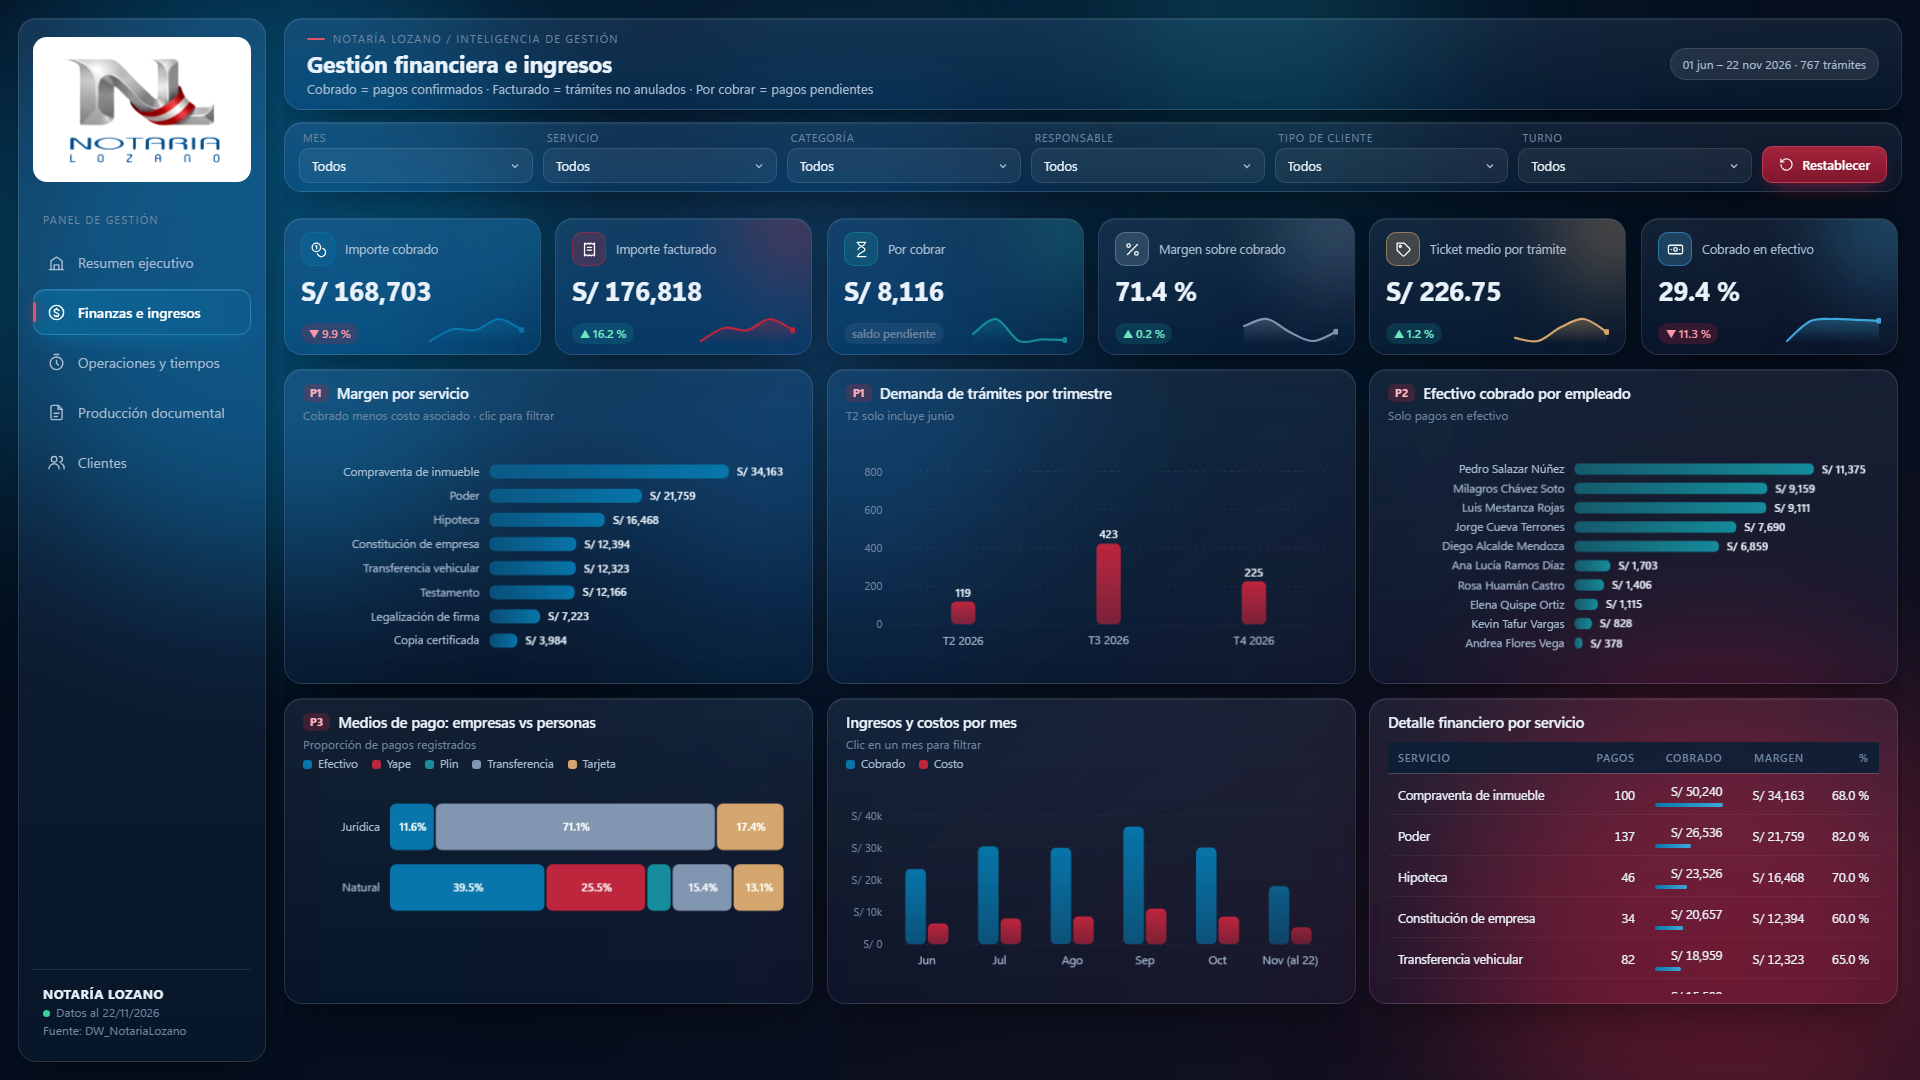

This screenshot's page, from the dashboard's own definition file:
{"tool":"powerbi","page":{"name":"Gestión financiera e ingresos","canvas":[1920,1280],"ordinal":0},"visuals":[{"type":"textbox","box":[302,67,1400,52],"z":0},{"type":"textbox","box":[304,123,1450,40],"z":1},{"type":"slicer","fields":{"Values":["DIM_TIEMPO.Anio"]},"box":[296,216,250.3,61],"z":3},{"type":"slicer","fields":{"Values":["DIM_TIEMPO.Nombre_Mes"]},"box":[560.3,216,250.3,61],"z":4},{"type":"slicer","fields":{"Values":["DIM_SERVICIO.Nombre_Tramite"]},"box":[824.7,216,250.3,61],"z":5},{"type":"slicer","fields":{"Values":["DIM_PERSONAL.Nombre_Completo"]},"box":[1089,216,250.3,61],"z":6},{"type":"slicer","fields":{"Values":["DIM_METODO_PAGO.Tipo_Pago"]},"box":[1353.3,216,250.3,61],"z":7},{"type":"slicer","fields":{"Values":["DIM_ESTADO_PAGO.Estado"]},"box":[1617.7,216,250.3,61],"z":8},{"type":"card","fields":{"Values":["FACT_TRAMITES_FINANCIEROS.Importe cobrado"]},"box":[280,310,308,122],"z":9},{"type":"card","fields":{"Values":["FACT_TRAMITES_FINANCIEROS.Registros financieros"]},"box":[604,310,308,122],"z":10},{"type":"card","fields":{"Values":["FACT_TRAMITES_FINANCIEROS.Importe medio por registro"]},"box":[928,310,308,122],"z":11},{"type":"card","fields":{"Values":["FACT_TRAMITE_GENERAL.Pagos registrados"]},"box":[1252,310,308,122],"z":12},{"type":"card","fields":{"Values":["FACT_TRAMITES_FINANCIEROS.Variacion mensual cobros"]},"box":[1576,310,308,122],"z":13},{"type":"textbox","box":[295.5,1231,1580.2,19],"z":14},{"type":"lineChart","title":"Evolución mensual del importe cobrado","fields":{"Category":["DIM_TIEMPO.Nombre_Mes"],"Y":["FACT_TRAMITES_FINANCIEROS.Importe cobrado"]},"box":[306,494,492,214],"z":15},{"type":"clusteredBarChart","title":"Importe cobrado por servicio","fields":{"Category":["DIM_SERVICIO.Nombre_Tramite"],"Y":["FACT_TRAMITES_FINANCIEROS.Importe cobrado"]},"box":[846,494,492,214],"z":16},{"type":"donutChart","title":"Importe por método de pago","fields":{"Category":["DIM_METODO_PAGO.Tipo_Pago"],"Y":["FACT_TRAMITES_FINANCIEROS.Importe cobrado"]},"box":[1386,494,492,214],"z":17},{"type":"clusteredBarChart","title":"Importe por responsable","fields":{"Category":["DIM_PERSONAL.Nombre_Completo"],"Y":["FACT_TRAMITES_FINANCIEROS.Importe cobrado"]},"box":[306,744,492,214],"z":18},{"type":"clusteredColumnChart","title":"Registros financieros por mes","fields":{"Category":["DIM_TIEMPO.Nombre_Mes"],"Y":["FACT_TRAMITES_FINANCIEROS.Registros financieros"]},"box":[846,744,492,214],"z":19},{"type":"clusteredBarChart","title":"Trámites por estado de pago · hecho general","fields":{"Category":["DIM_ESTADO_PAGO.Estado"],"Y":["FACT_TRAMITE_GENERAL.Tramites registrados"]},"box":[1386,744,492,214],"z":20},{"type":"tableEx","title":"Resumen financiero por fecha, servicio y método (agrupado)","fields":{"Values":["DIM_TIEMPO.Fecha_Exacta","DIM_SERVICIO.Nombre_Tramite","DIM_METODO_PAGO.Tipo_Pago","DIM_PERSONAL.Nombre_Completo","FACT_TRAMITES_FINANCIEROS.Registros financieros","FACT_TRAMITES_FINANCIEROS.Importe cobrado","FACT_TRAMITES_FINANCIEROS.Importe medio por registro"]},"box":[295.5,990.8,1572.3,259.2],"z":21},{"type":"actionButton","box":[24,685,196,44],"z":23},{"type":"actionButton","box":[24,260,196,76],"z":40},{"type":"actionButton","box":[24,352,196,76],"z":41},{"type":"actionButton","box":[24,444,196,76],"z":42}]}

Visuals, with their boxes on the page's 1920x1280 design canvas (x1, y1, x2, y2). These are canvas units, not pixel positions in the 1920x1080 screenshot, which may show the page scaled, cropped or inside an application window:
textbox: region(302, 67, 1702, 119)
textbox: region(304, 123, 1754, 163)
slicer - DIM_TIEMPO.Anio: region(296, 216, 546, 277)
slicer - DIM_TIEMPO.Nombre_Mes: region(560, 216, 811, 277)
slicer - DIM_SERVICIO.Nombre_Tramite: region(825, 216, 1075, 277)
slicer - DIM_PERSONAL.Nombre_Completo: region(1089, 216, 1339, 277)
slicer - DIM_METODO_PAGO.Tipo_Pago: region(1353, 216, 1604, 277)
slicer - DIM_ESTADO_PAGO.Estado: region(1618, 216, 1868, 277)
card - FACT_TRAMITES_FINANCIEROS.Importe cobrado: region(280, 310, 588, 432)
card - FACT_TRAMITES_FINANCIEROS.Registros financieros: region(604, 310, 912, 432)
card - FACT_TRAMITES_FINANCIEROS.Importe medio por registro: region(928, 310, 1236, 432)
card - FACT_TRAMITE_GENERAL.Pagos registrados: region(1252, 310, 1560, 432)
card - FACT_TRAMITES_FINANCIEROS.Variacion mensual cobros: region(1576, 310, 1884, 432)
textbox: region(296, 1231, 1876, 1250)
"Evolución mensual del importe cobrado" lineChart: region(306, 494, 798, 708)
"Importe cobrado por servicio" clusteredBarChart: region(846, 494, 1338, 708)
"Importe por método de pago" donutChart: region(1386, 494, 1878, 708)
"Importe por responsable" clusteredBarChart: region(306, 744, 798, 958)
"Registros financieros por mes" clusteredColumnChart: region(846, 744, 1338, 958)
"Trámites por estado de pago · hecho general" clusteredBarChart: region(1386, 744, 1878, 958)
"Resumen financiero por fecha, servicio y método (agrupado)" tableEx: region(296, 991, 1868, 1250)
actionButton: region(24, 685, 220, 729)
actionButton: region(24, 260, 220, 336)
actionButton: region(24, 352, 220, 428)
actionButton: region(24, 444, 220, 520)
